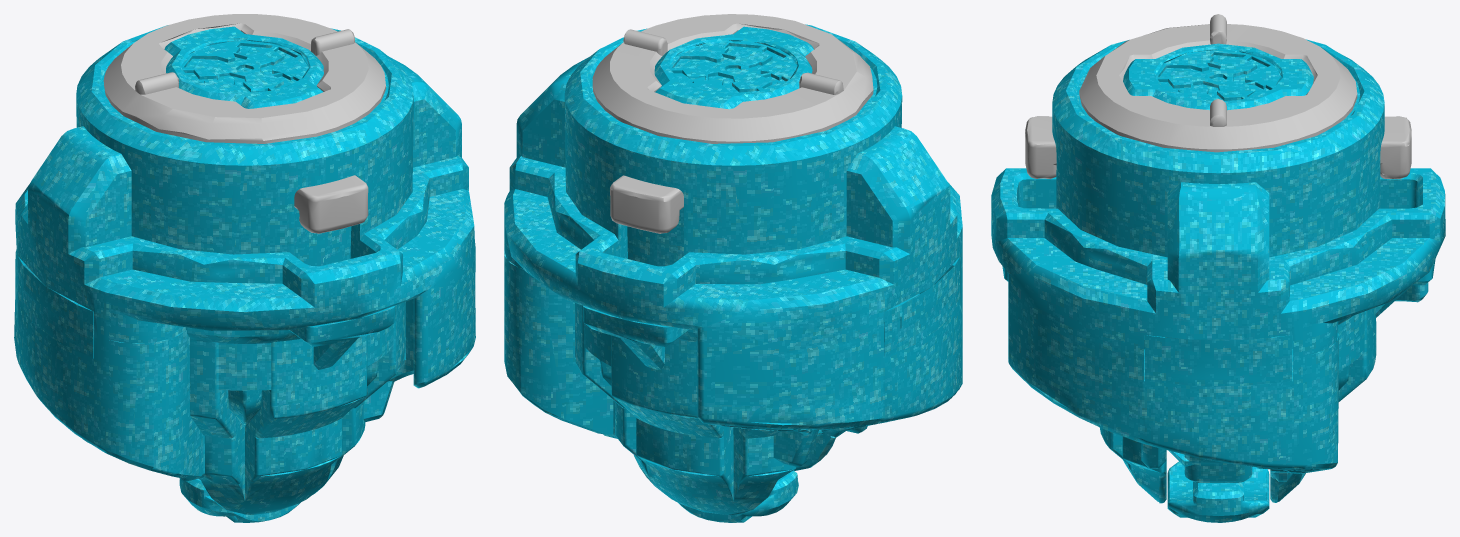
File: zetasgeo_phantomdriger.fbx
3 renders of one model, left to right at view 1: azimuth 30°, elevation 25°; view 2: azimuth 150°, elevation 25°; view 3: azimuth 270°, elevation 25°, orthographic.
Parts seen in each view (by area): view 1: PhantomDrigerS_ZetaS_Tip; view 2: PhantomDrigerS_ZetaS_Tip; view 3: PhantomDrigerS_ZetaS_Tip.
Part boxes in pixels (x1=…): PhantomDrigerS_ZetaS_Tip: x1=14, y1=14, x2=475, y2=522; PhantomDrigerS_ZetaS_Tip: x1=504, y1=14, x2=962, y2=522; PhantomDrigerS_ZetaS_Tip: x1=991, y1=14, x2=1445, y2=522.
Size of the model in its own units: 0.2682 by 0.2858 by 0.2682.
